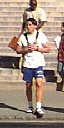person: (14, 19, 50, 119)
